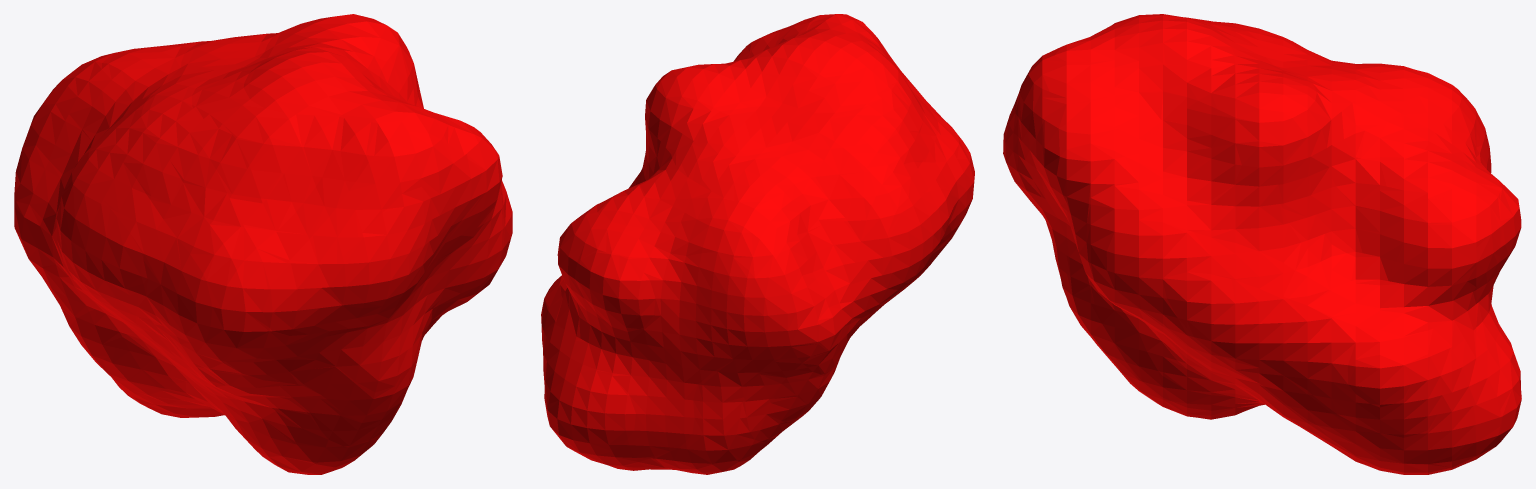
Rendered from cyaY_coarse.dae.
3 renders of one model, left to right at view 1: azimuth 30°, elevation 25°; view 2: azimuth 150°, elevation 25°; view 3: azimuth 270°, elevation 25°, orthographic. The views are drawn at different scales.
Visible parts, largest first — view 1: cyaY; view 2: cyaY; view 3: cyaY.
Boxes of the visible parts, x1,y1,x2,y2 form: cyaY: [14, 14, 512, 474]; cyaY: [541, 14, 974, 474]; cyaY: [1003, 14, 1521, 474].
Size of the model in its own units: 33.43 by 35.3 by 41.3.
